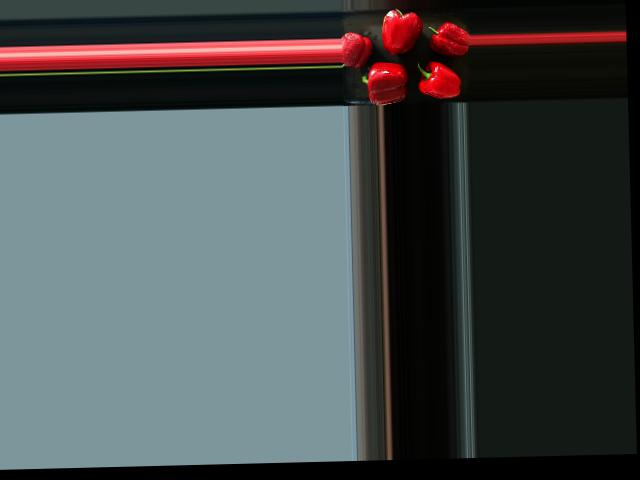bell_pepper: (341, 25, 374, 70)
